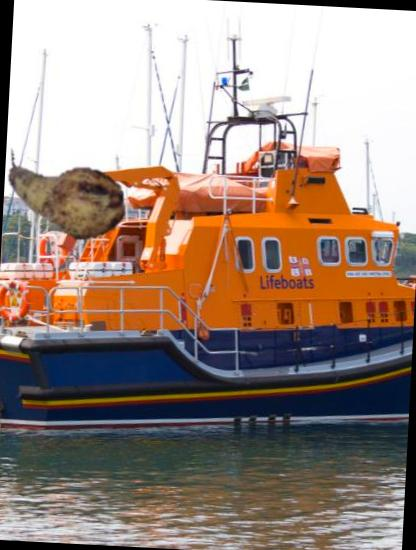Pear: (4, 130, 130, 256)
